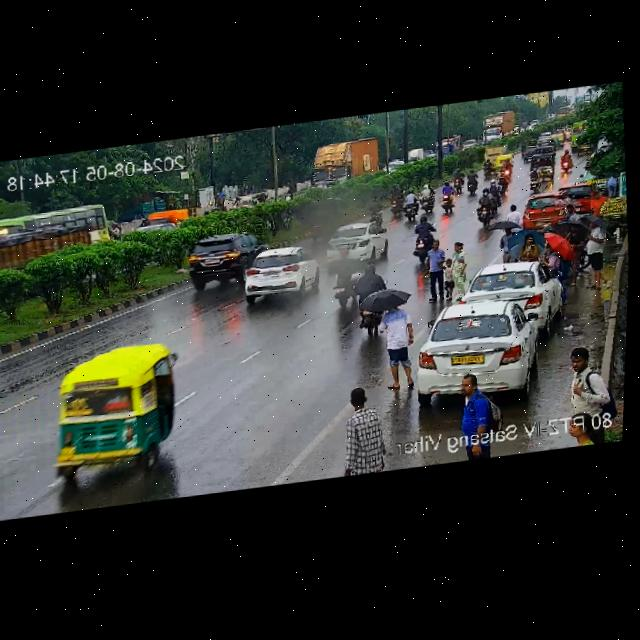bus: (0, 198, 113, 279), (567, 116, 598, 148), (435, 131, 464, 155), (554, 103, 576, 121)
car: (39, 329, 189, 489), (406, 277, 563, 407), (454, 254, 567, 342), (184, 228, 268, 287), (240, 242, 321, 303), (534, 181, 608, 227), (519, 188, 583, 232), (325, 218, 390, 261), (526, 144, 557, 168), (493, 152, 515, 175), (548, 131, 566, 150), (520, 144, 538, 161)
motorcycle: (346, 264, 389, 341), (409, 213, 436, 262), (472, 186, 499, 230), (438, 179, 458, 213), (400, 187, 419, 222), (385, 183, 405, 215), (365, 195, 385, 226), (526, 161, 545, 192), (418, 181, 435, 213), (462, 167, 480, 196), (557, 148, 575, 174)
person: (561, 342, 618, 448), (443, 370, 506, 463), (330, 382, 390, 478), (375, 303, 419, 392), (578, 217, 611, 293), (415, 238, 448, 304), (440, 237, 471, 301), (539, 238, 569, 283), (516, 233, 539, 264)
truck: (308, 138, 380, 186), (481, 107, 518, 143), (480, 142, 508, 171)
